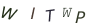I: (28, 6, 37, 20)
P: (75, 11, 86, 24)
T: (44, 9, 56, 24)
W: (1, 5, 19, 20), (61, 7, 73, 18)
